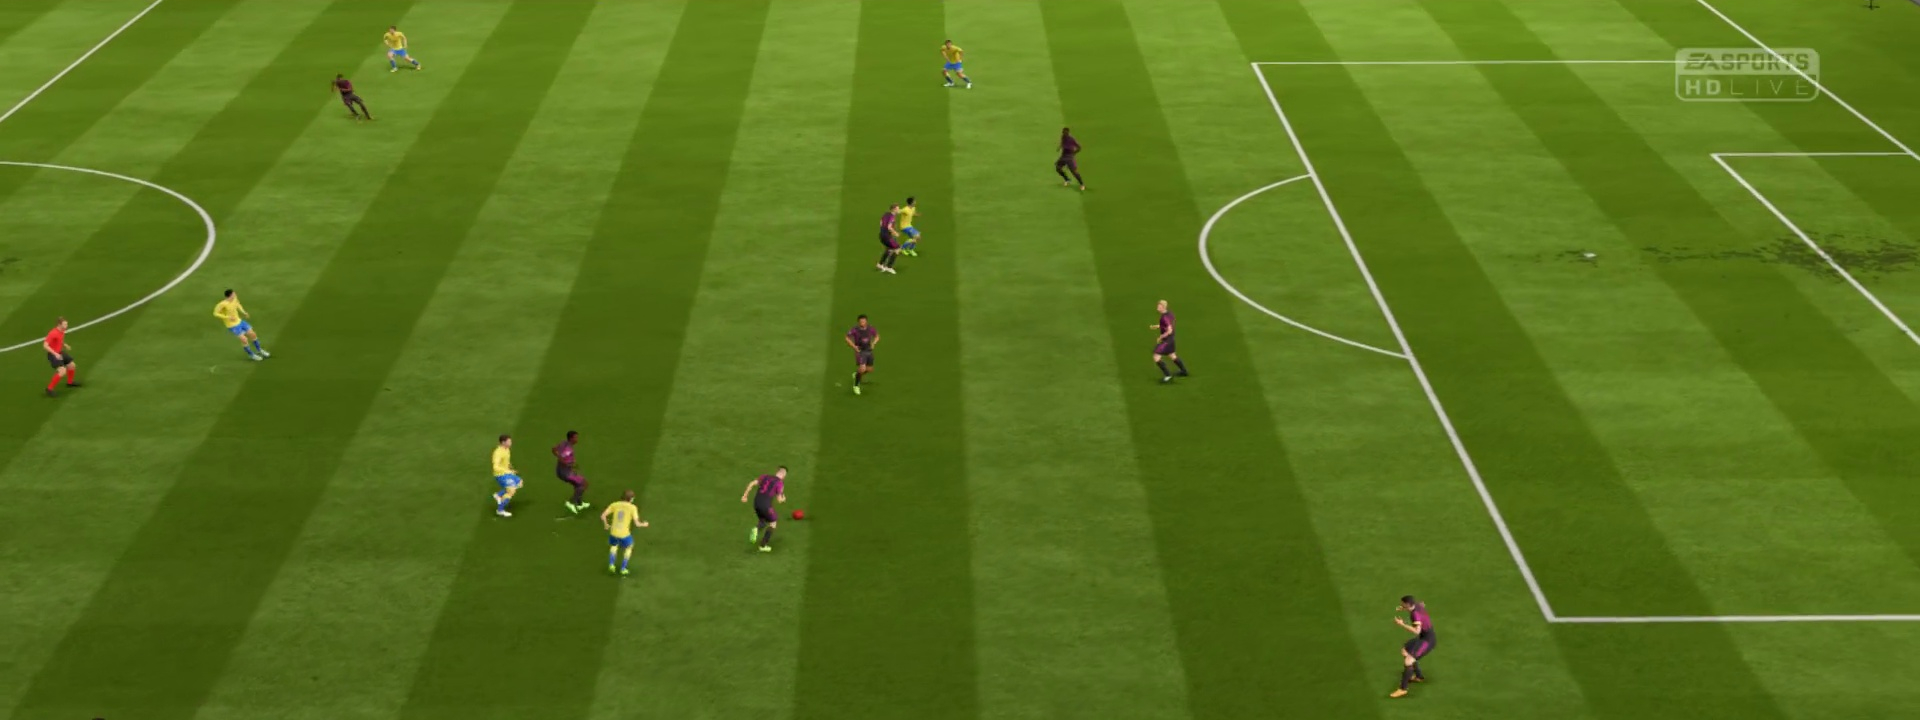person: (1388, 594, 1438, 697), (738, 459, 789, 551), (597, 488, 649, 576), (212, 285, 270, 363), (549, 426, 590, 514), (41, 315, 81, 399), (1147, 299, 1188, 383), (841, 313, 880, 394), (486, 432, 523, 518), (1052, 124, 1086, 190), (377, 24, 422, 72), (329, 72, 372, 120), (937, 37, 971, 87), (878, 204, 901, 275), (897, 194, 923, 256), (791, 508, 806, 523)
